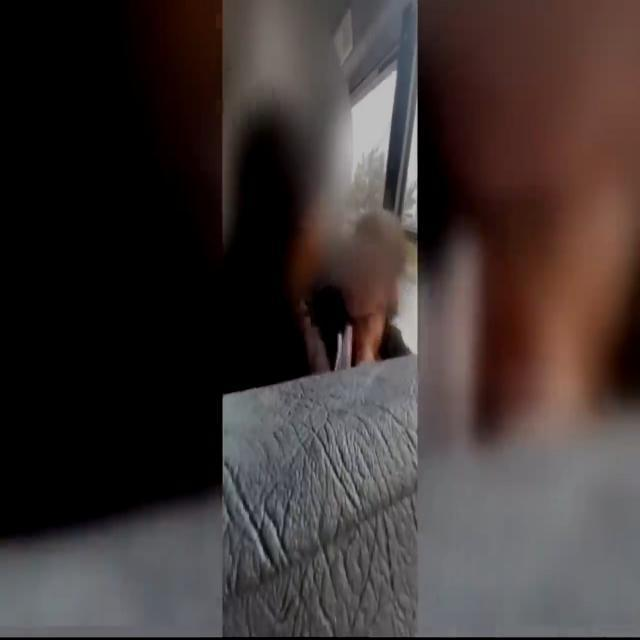fight: (233, 34, 412, 438)
